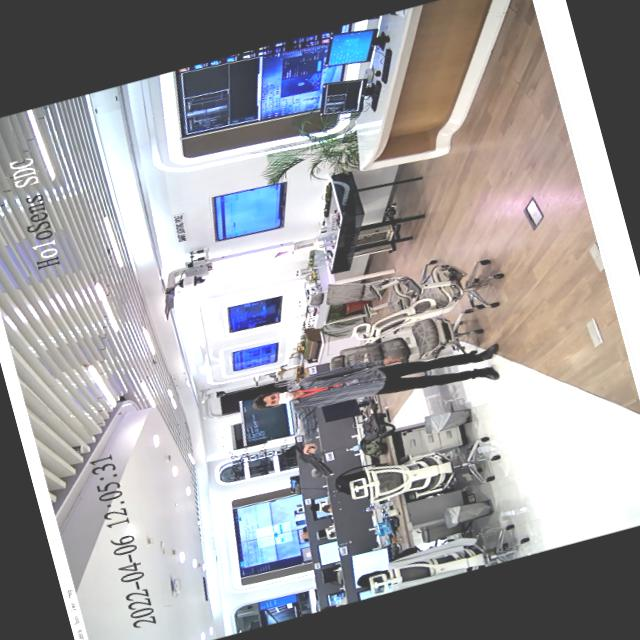long weapon: (289, 427, 347, 488)
